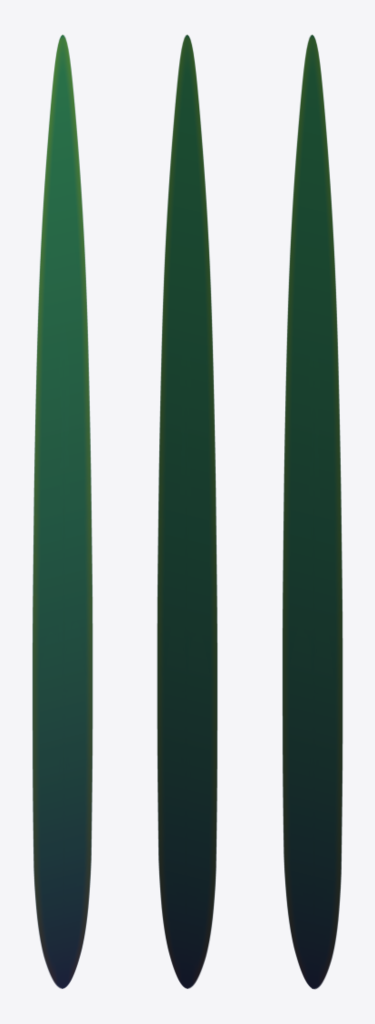
The picture shows the model from 3 angles, left to right: view 1: azimuth 30°, elevation 25°; view 2: azimuth 150°, elevation 25°; view 3: azimuth 330°, elevation 25°; orthographic projection.
Parts seen in each view (by area): view 1: Grass:Grass_Master_Grass:Grass_MAT_0; view 2: Grass:Grass_Master_Grass:Grass_MAT_0; view 3: Grass:Grass_Master_Grass:Grass_MAT_0.
Part boxes in pixels (<box>): Grass:Grass_Master_Grass:Grass_MAT_0: <box>32,34,92,988</box>; Grass:Grass_Master_Grass:Grass_MAT_0: <box>157,34,217,988</box>; Grass:Grass_Master_Grass:Grass_MAT_0: <box>282,34,342,989</box>.
Bounding box in the file's own units: 1.4 × 13.46 × 0.
Materials: 1 (1 with a texture image).
